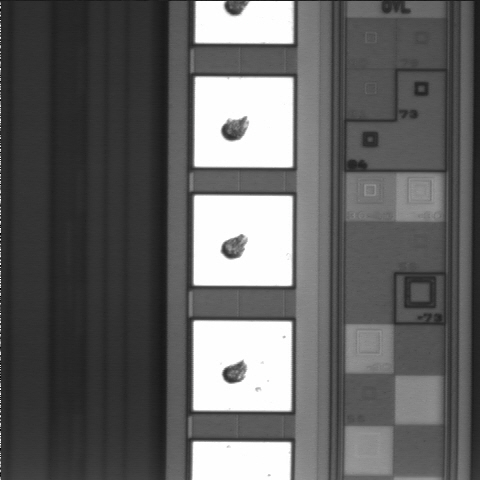pad: (194, 195, 292, 286), (194, 77, 293, 167), (193, 321, 292, 411)
